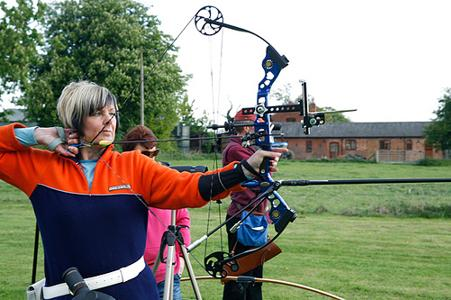person: (2, 79, 287, 297)
